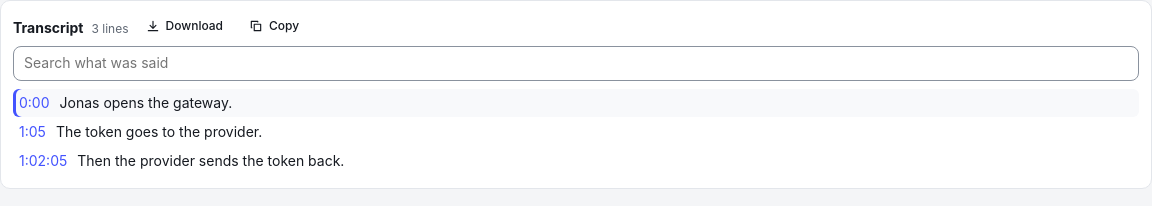
Test case: TranscriptView › shows the lines that match while typing, near spellings too, with the matched words marked
The image size is (1152, 206).
Expected: the text "Jonas opens the gateway." is shown, [60,93,232,113]
Type "provder" into the dropdown named "search the transcript". click: x=576, y=64
box: [13,46,1139,81]
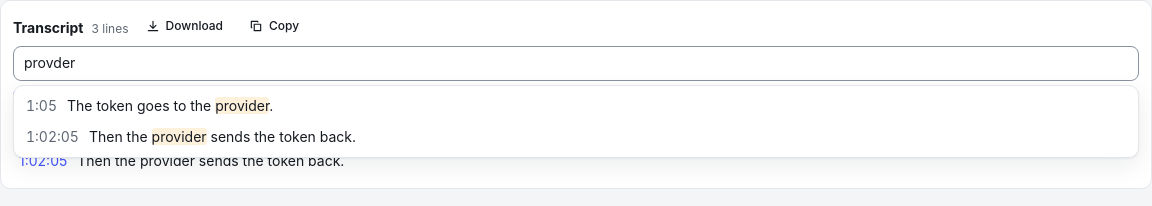
Now the options read "1:05The token goes to the provider.", "1:02:05Then the provider sends the token back.", in this order, box [26,97,273,114]; [26,128,356,145]
Now the dropdown named "search the transcript" is expanded, box [13,46,1139,81]
